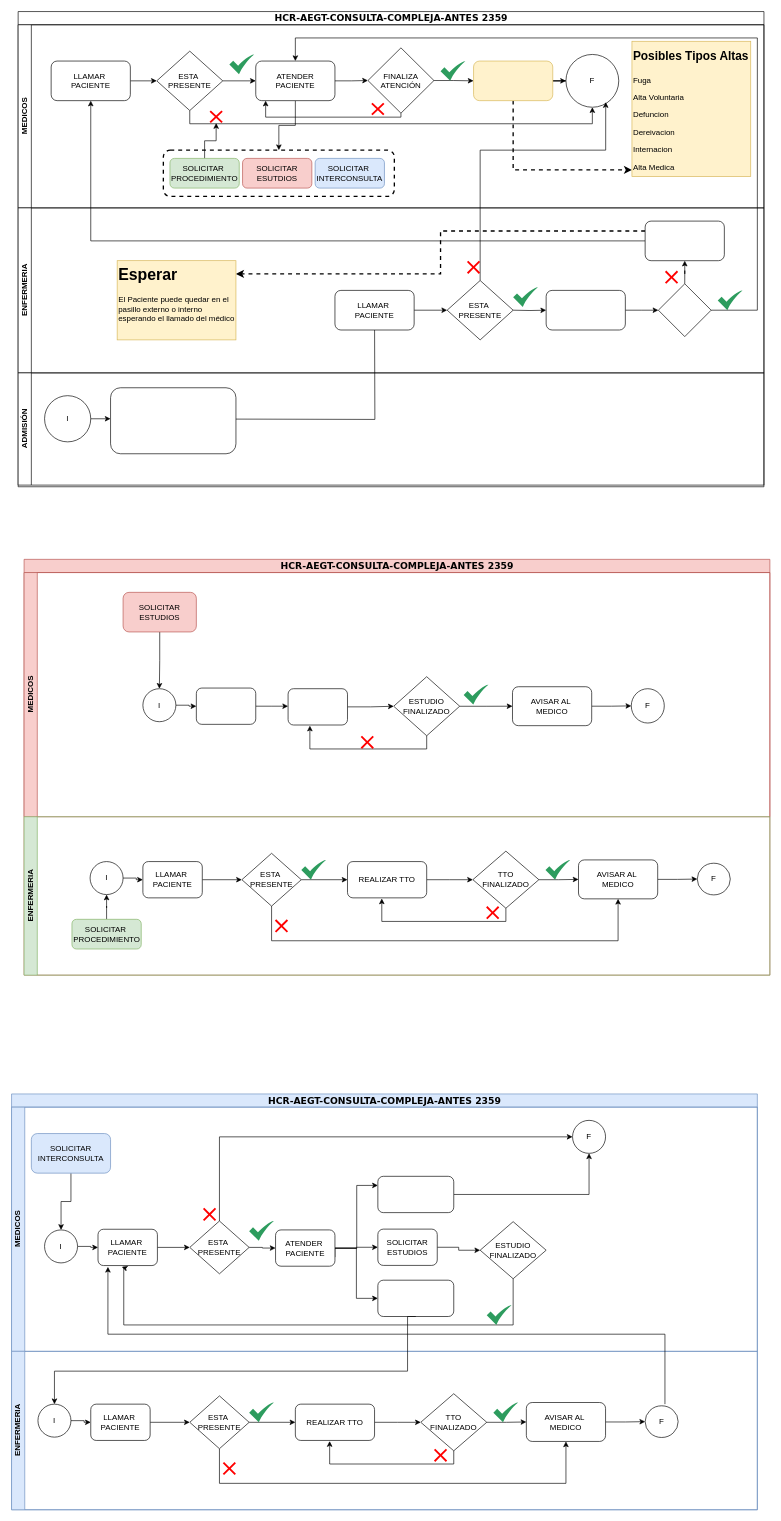
Image size: 781x1521. Some labels were removed from this diagram. The shapes that lost their labels are listed below. From the top down, each one's centre as x and y in pixels, then its label:
At point 513,80: "FINALIZAR ATENCIÓN".
At point 684,240: "ESPERAR ATENCION MEDICA".
At point 585,310: "REALIZAR TRIAJE".
At point 684,310: "Shocroom".
At point 173,420: "RECEPCIONAR PACIENTES ANOTAR MOTIVO DE CONSULTA REFERIDO POR EL PACIENTE".
At point 226,705: "SOLICITAR ESTUDIO".
At point 317,706: "ESPERAR ESTUDIO".
At point 415,1194: "FINALIZA INTERCONSULTA".
At point 415,1298: "SOLICITAR PROCEDIMIENTOS".
